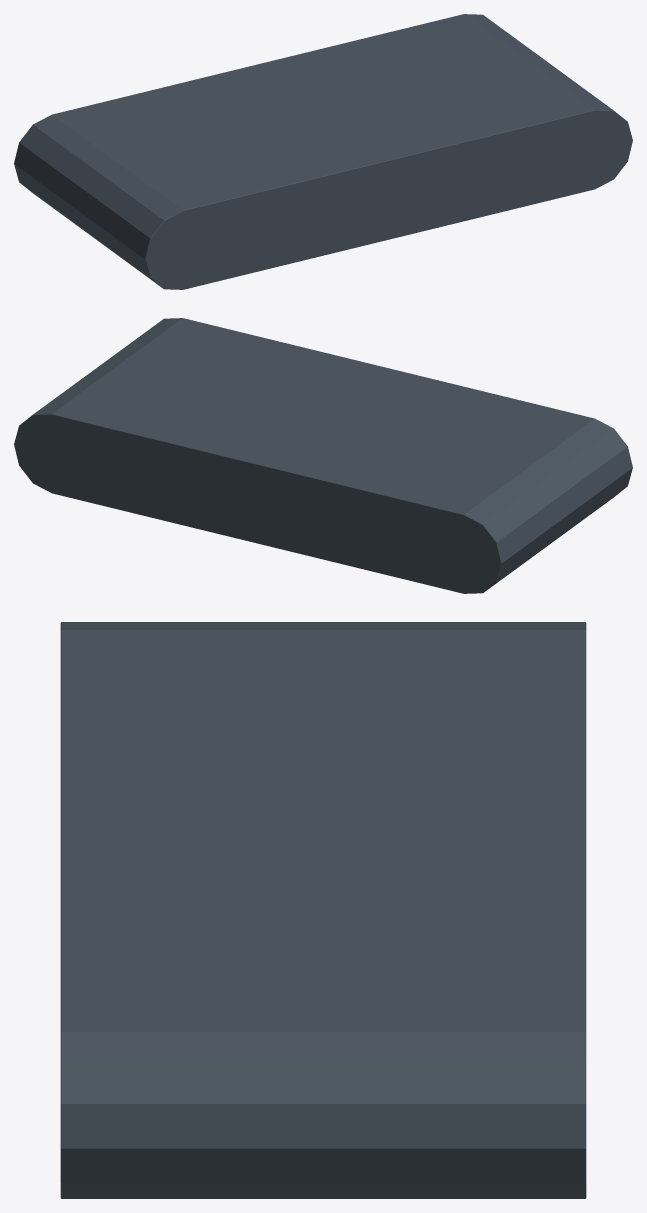
Rendered from OneWay.gltf.
3 views of the same model, one above another, from view 1: azimuth 30°, elevation 25°; view 2: azimuth 150°, elevation 25°; view 3: azimuth 270°, elevation 25° (orthographic). The views are drawn at different scales.
Visible parts, largest first — view 1: OneWay_baked; view 2: OneWay_baked; view 3: OneWay_baked.
Boxes of the visible parts, x1,y1,x2,y2 form: OneWay_baked: (14, 14, 632, 289); OneWay_baked: (14, 318, 632, 593); OneWay_baked: (60, 622, 586, 1198).
Size of the model in its own units: 0.9 by 0.155 by 0.42.
